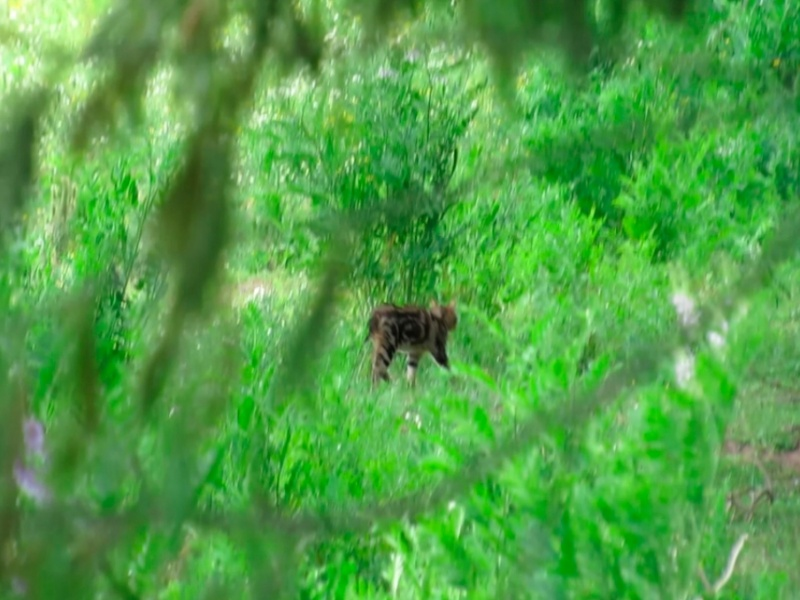cat: (362, 294, 464, 392)
